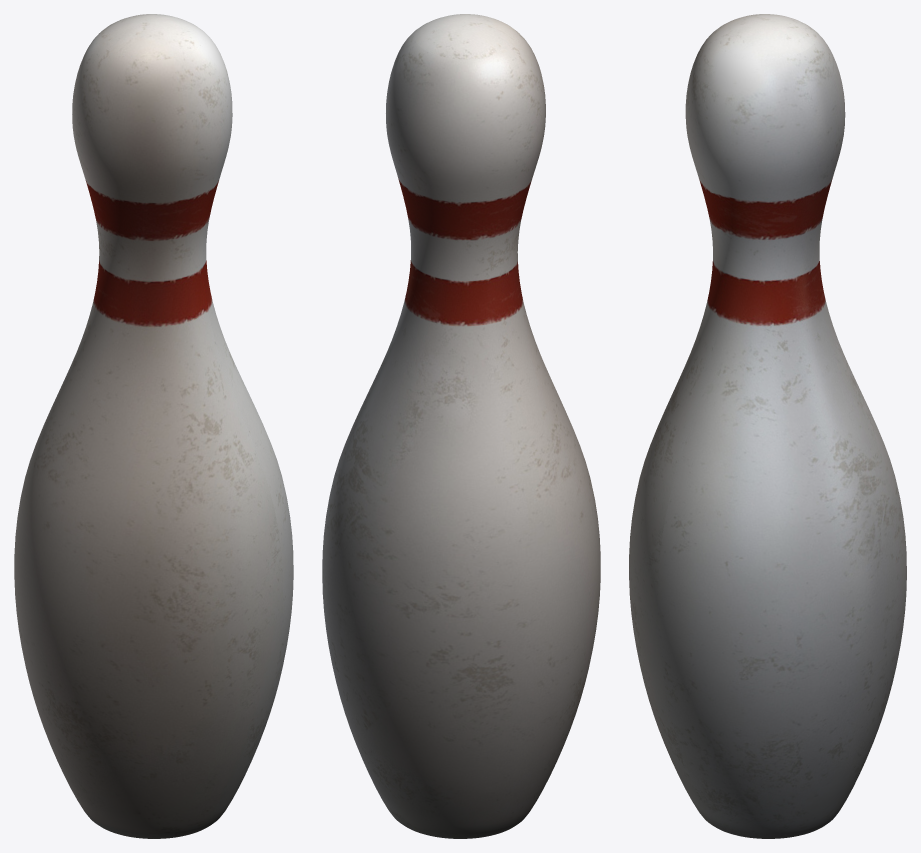
The model's file is pin.gltf.
3 views of the same model, side by side, from view 1: azimuth 30°, elevation 25°; view 2: azimuth 150°, elevation 25°; view 3: azimuth 270°, elevation 25° (orthographic).
Parts seen in each view (by area): view 1: 10492_Bowling Pin_v1_max2011_iteration-2; view 2: 10492_Bowling Pin_v1_max2011_iteration-2; view 3: 10492_Bowling Pin_v1_max2011_iteration-2.
Part boxes in pixels (x1=…): 10492_Bowling Pin_v1_max2011_iteration-2: x1=14, y1=14, x2=293, y2=838; 10492_Bowling Pin_v1_max2011_iteration-2: x1=322, y1=14, x2=600, y2=838; 10492_Bowling Pin_v1_max2011_iteration-2: x1=629, y1=14, x2=906, y2=838.
Bounding box in the file's own units: 12.07 × 37.88 × 12.08.
Materials: 1 (1 with a texture image).
